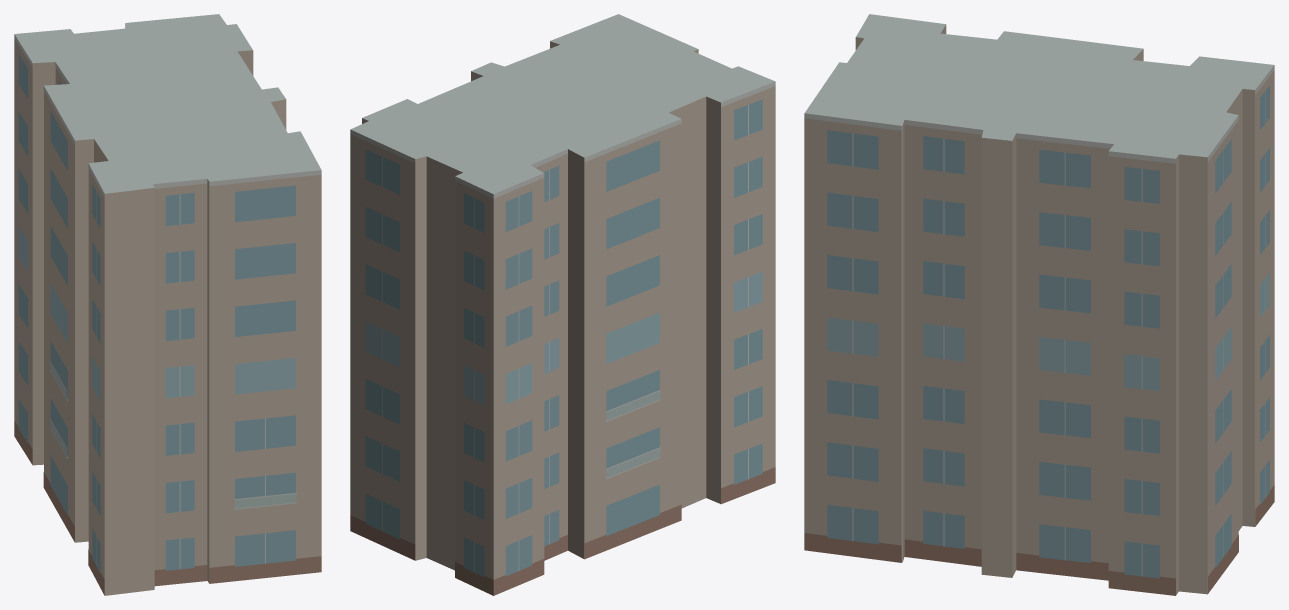
The model's file is survey-upis-32950922.glb.
The picture shows the model from 3 angles, left to right: view 1: azimuth 30°, elevation 25°; view 2: azimuth 150°, elevation 25°; view 3: azimuth 270°, elevation 25°; orthographic projection. The views are drawn at different scales.
Parts seen in each view (by area): view 1: survey-upis-32950922.tmp; view 2: survey-upis-32950922.tmp; view 3: survey-upis-32950922.tmp.
Part boxes in pixels (x1,y1,x2,y2): survey-upis-32950922.tmp: (14,14,321,595); survey-upis-32950922.tmp: (350,14,775,595); survey-upis-32950922.tmp: (804,14,1274,595).
Bounding box in the file's own units: 15.22 × 21.4 × 20.87.
